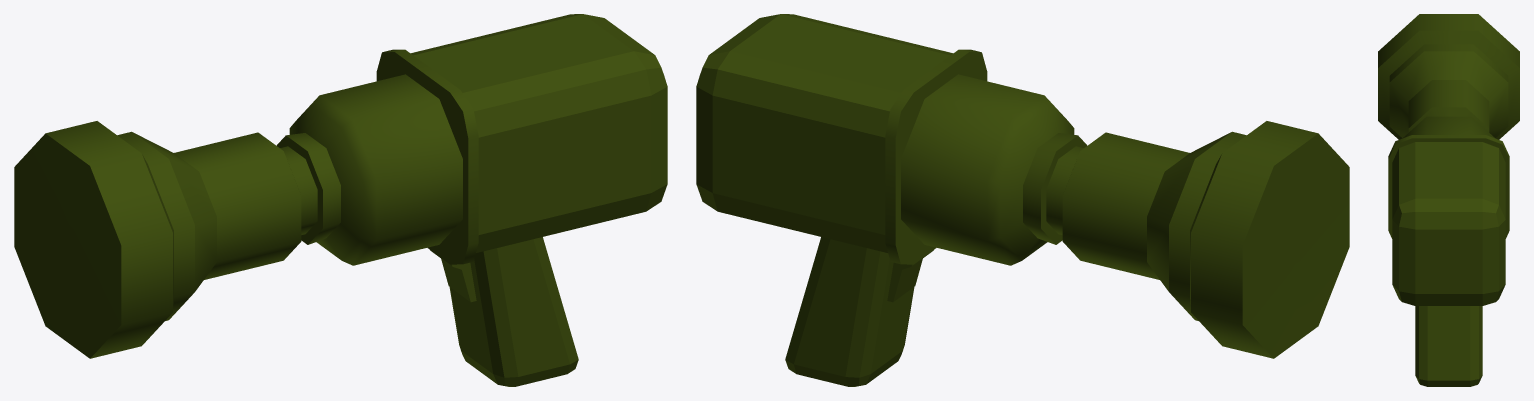
File: PitAirGun1_M.fbx
The picture shows the model from 3 angles, left to right: view 1: azimuth 30°, elevation 25°; view 2: azimuth 150°, elevation 25°; view 3: azimuth 270°, elevation 25°; orthographic projection. The views are drawn at different scales.
Parts seen in each view (by area): view 1: PitAirGun1; view 2: PitAirGun1; view 3: PitAirGun1.
Boxes of the visible parts, x1=… form: PitAirGun1: x1=14, y1=14, x2=667, y2=386; PitAirGun1: x1=696, y1=14, x2=1349, y2=386; PitAirGun1: x1=1378, y1=14, x2=1519, y2=386.
Bounding box in the file's own units: 0.1437 × 0.0792 × 0.0466.
